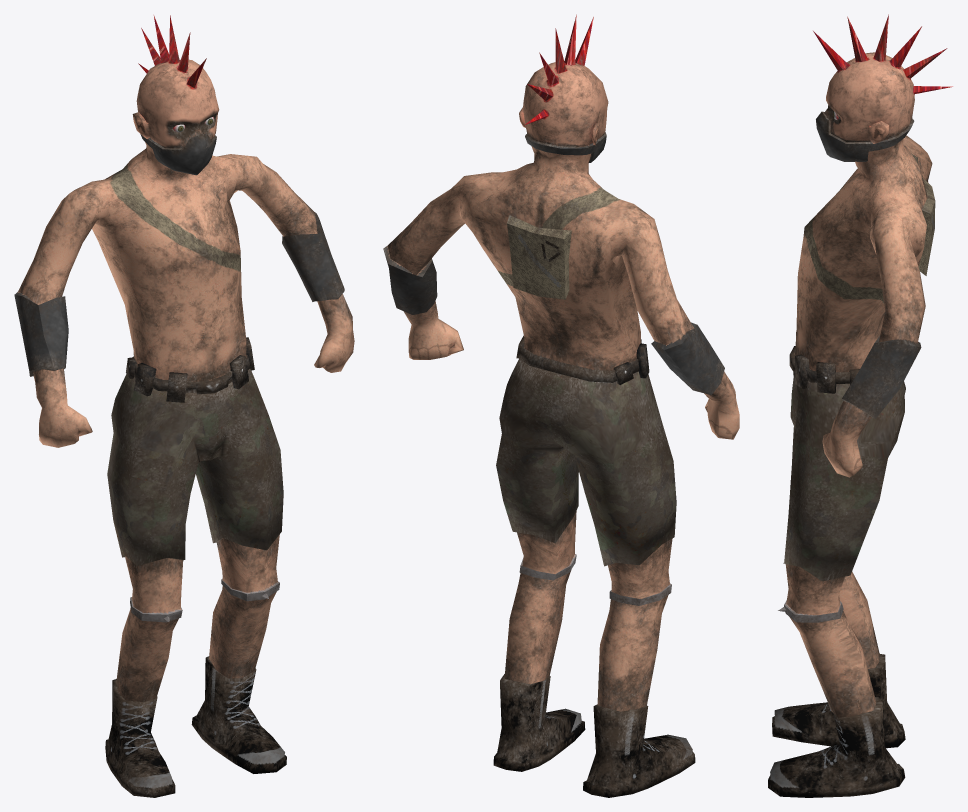
The model's file is Anim_morir_1_npc2.0013.obj.
The picture shows the model from 3 angles, left to right: view 1: azimuth 30°, elevation 25°; view 2: azimuth 150°, elevation 25°; view 3: azimuth 270°, elevation 25°; orthographic projection. The views are drawn at different scales.
Parts seen in each view (by area): view 1: polySurface1; view 2: polySurface1; view 3: polySurface1.
Boxes of the visible parts, bbox=[...] form: polySurface1: bbox=[14, 15, 354, 797]; polySurface1: bbox=[383, 14, 739, 797]; polySurface1: bbox=[768, 14, 952, 797].
Bounding box in the file's own units: 4.54 × 9.97 × 2.23.
